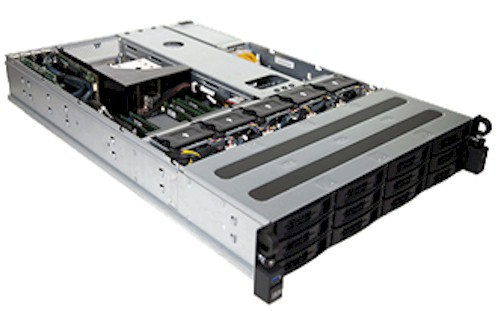ibm-server: (3, 14, 492, 303)
